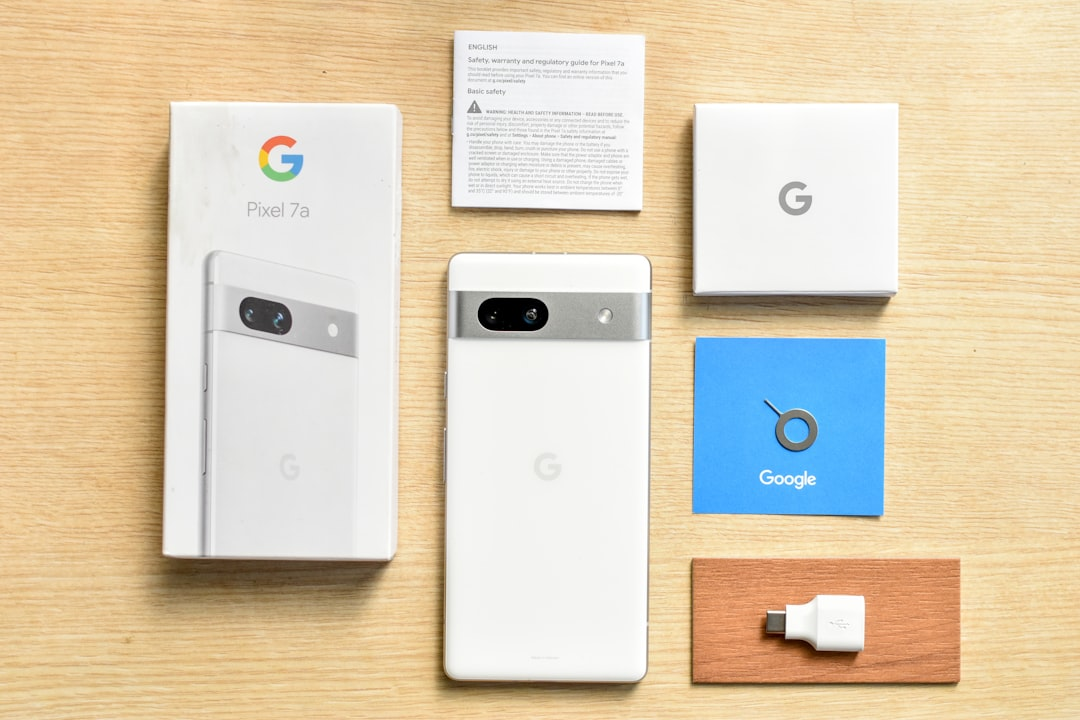phone: (442, 253, 649, 686)
